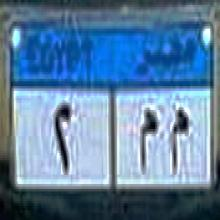2: (56, 104, 73, 175)
meem: (138, 109, 160, 174), (168, 106, 190, 170)
